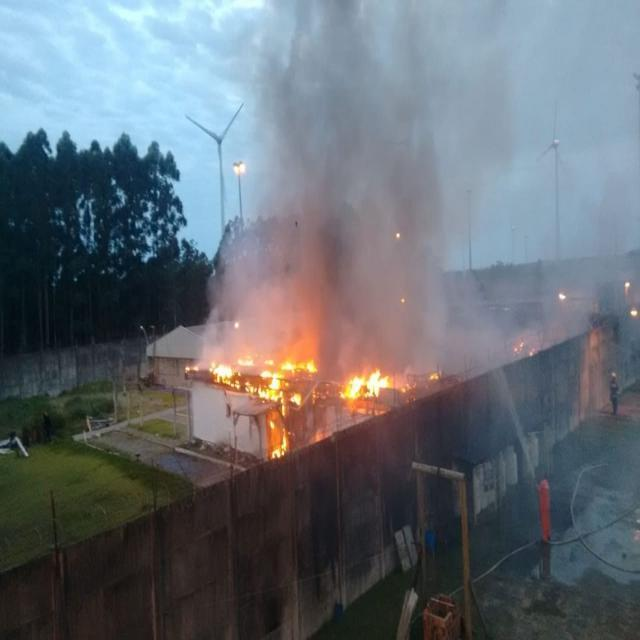Fire: (246, 367, 286, 418), (343, 365, 391, 402), (210, 350, 234, 388), (268, 417, 288, 458), (282, 358, 316, 376), (426, 369, 443, 385), (289, 392, 303, 406), (238, 354, 254, 366), (401, 380, 413, 394), (512, 340, 524, 354), (264, 357, 273, 367)
